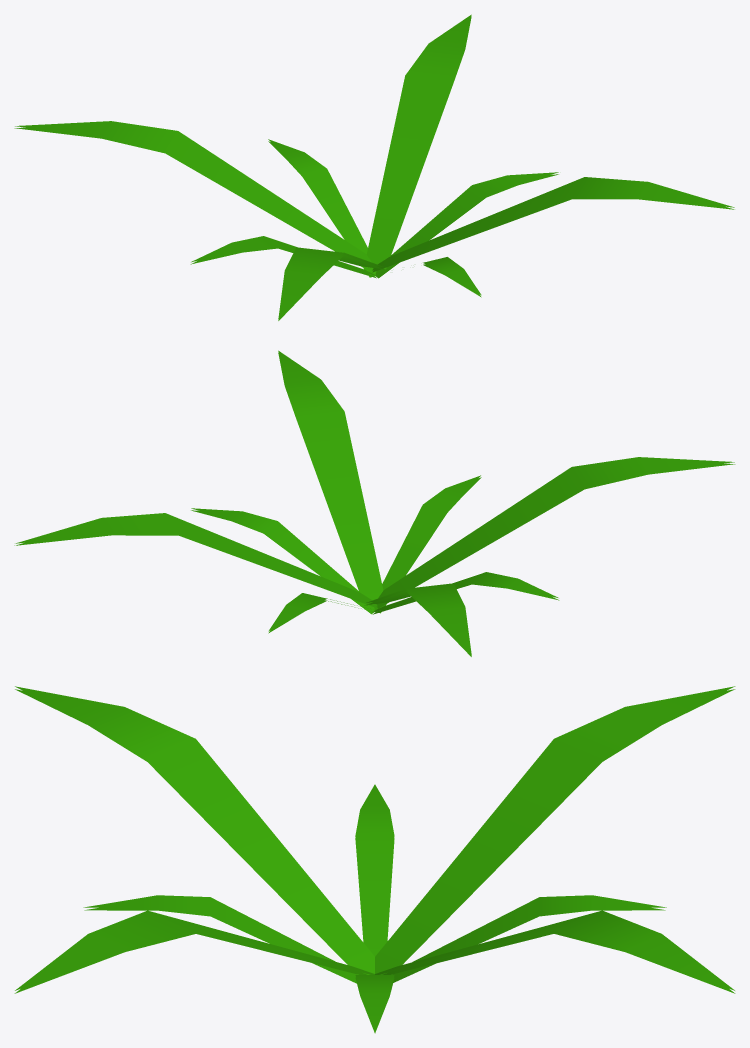
Rendered from flow1.fbx.
3 renders of one model, top to bottom at view 1: azimuth 30°, elevation 25°; view 2: azimuth 150°, elevation 25°; view 3: azimuth 270°, elevation 25°, orthographic. The views are drawn at different scales.
Visible parts, largest first — view 1: Plane.182; view 2: Plane.182; view 3: Plane.182.
Boxes of the visible parts, box(x1,y1,x2,y2) form: Plane.182: box(14, 14, 734, 320); Plane.182: box(14, 350, 735, 656); Plane.182: box(14, 686, 735, 1033).
Size of the model in its own units: 273 by 66.72 by 273.
